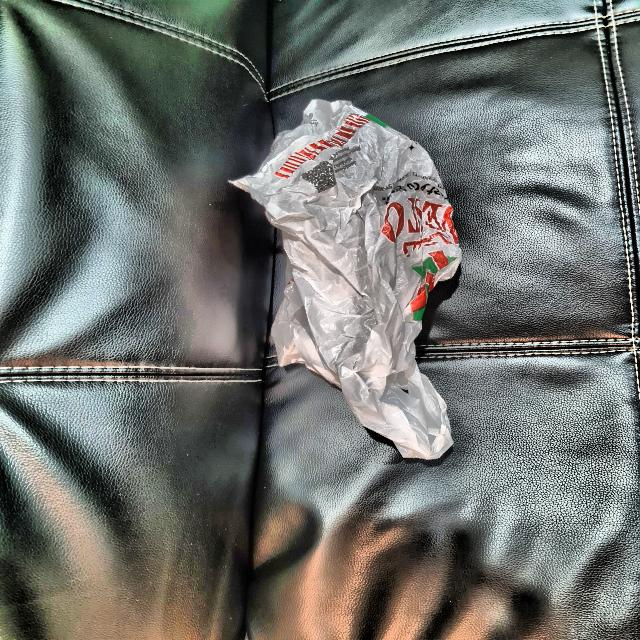plastic bag: (227, 100, 498, 470)
